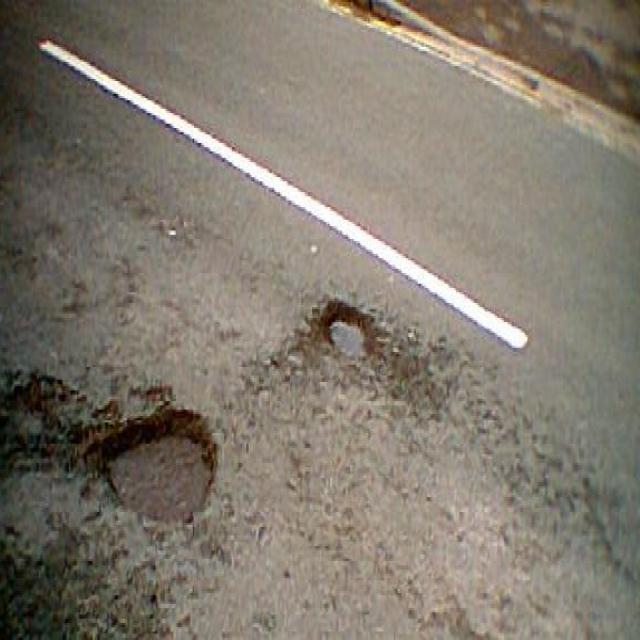pothole: (102, 401, 220, 531), (320, 292, 378, 367)
